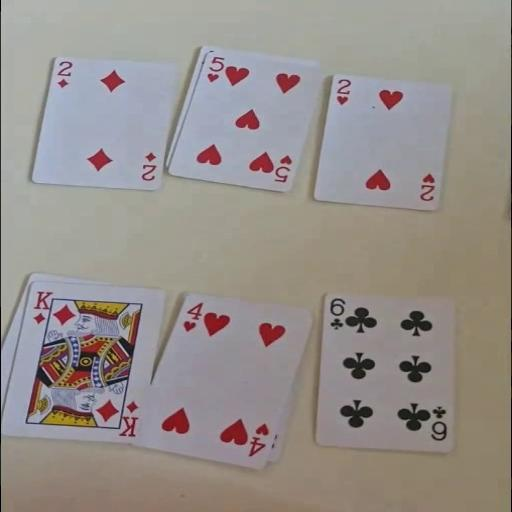2: (138, 150, 158, 182), (417, 171, 437, 202), (54, 59, 74, 89), (334, 77, 352, 106)
4: (244, 420, 270, 458), (180, 300, 204, 333)
5: (271, 153, 294, 183), (204, 54, 226, 84)
6: (428, 404, 448, 442), (327, 296, 347, 331)
K: (116, 398, 141, 438), (30, 288, 54, 326)
